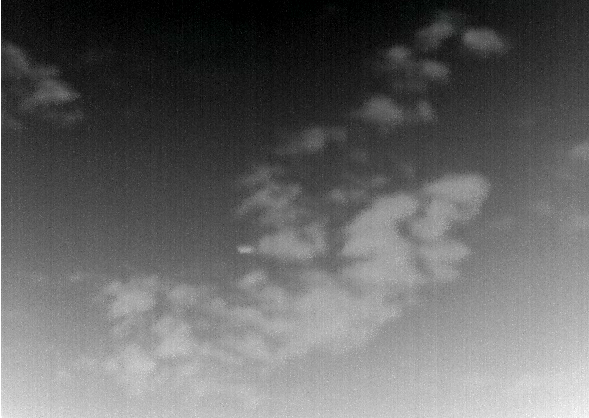dim target: (238, 245, 254, 254)
